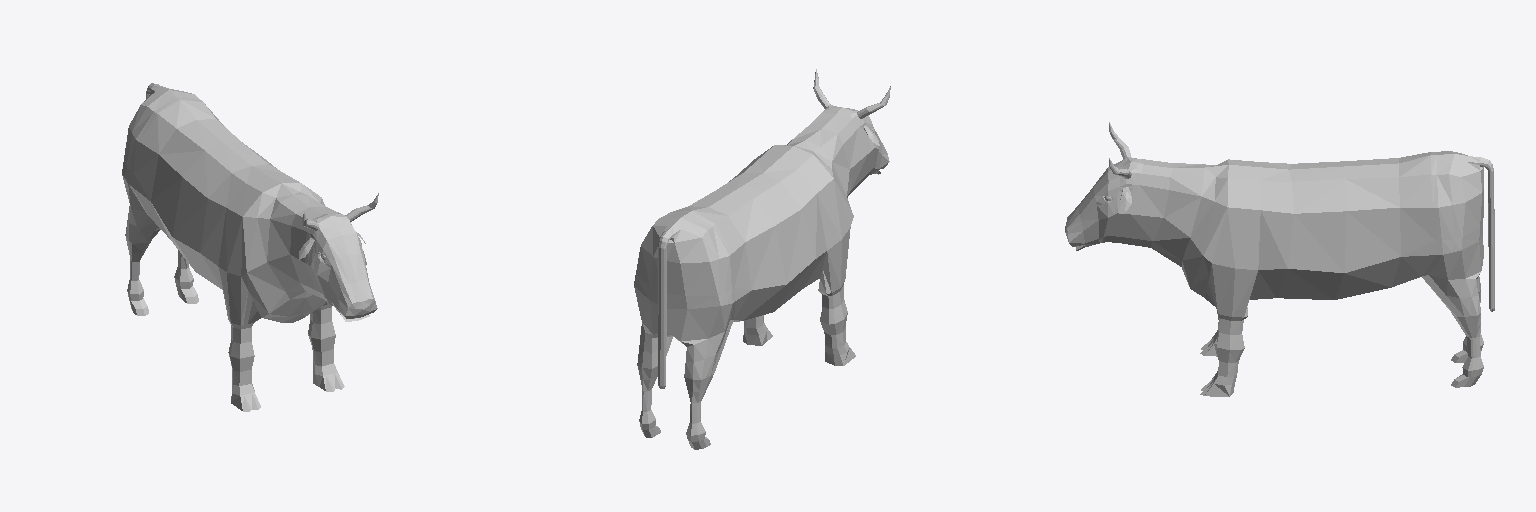
The model's file is 002_BullNew02.obj.
3 renders of one model, left to right at view 1: azimuth 30°, elevation 25°; view 2: azimuth 150°, elevation 25°; view 3: azimuth 270°, elevation 25°, orthographic.
Parts seen in each view (by area): view 1: Boi.001; view 2: Boi.001; view 3: Boi.001.
Part boxes in pixels (x1,y1,x2,y2): Boi.001: (122, 83, 378, 411); Boi.001: (634, 69, 890, 449); Boi.001: (1065, 122, 1494, 396).
Size of the model in its own units: 11.97 by 25.68 by 42.95.